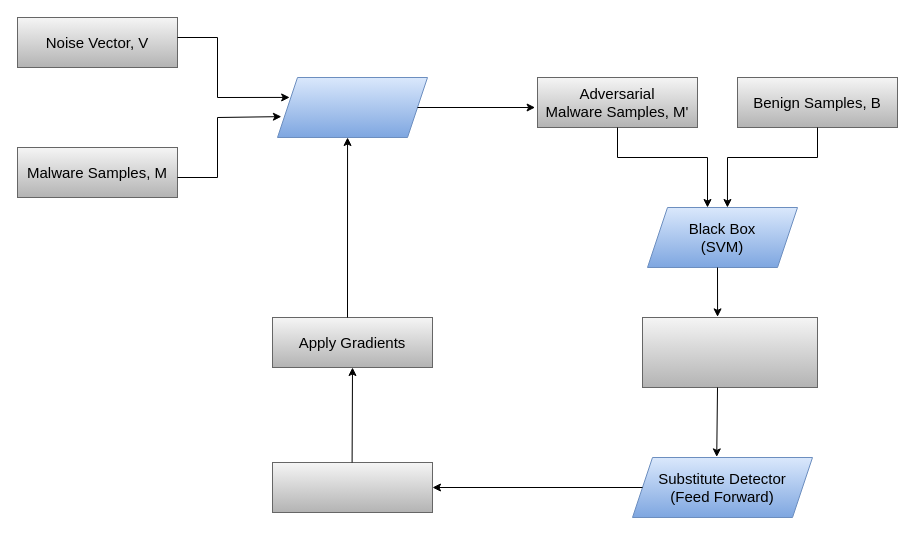
Image size: 915x535. Some labels were removed from this diagram. Here are the shapes that lost their labels. From the top down, the centre of each, then its label:
(352,107): Generator (U-Net)
(730,352): Adversarial Malware and Benign Samples, M' and B, with labels
(352,487): Objective Function
